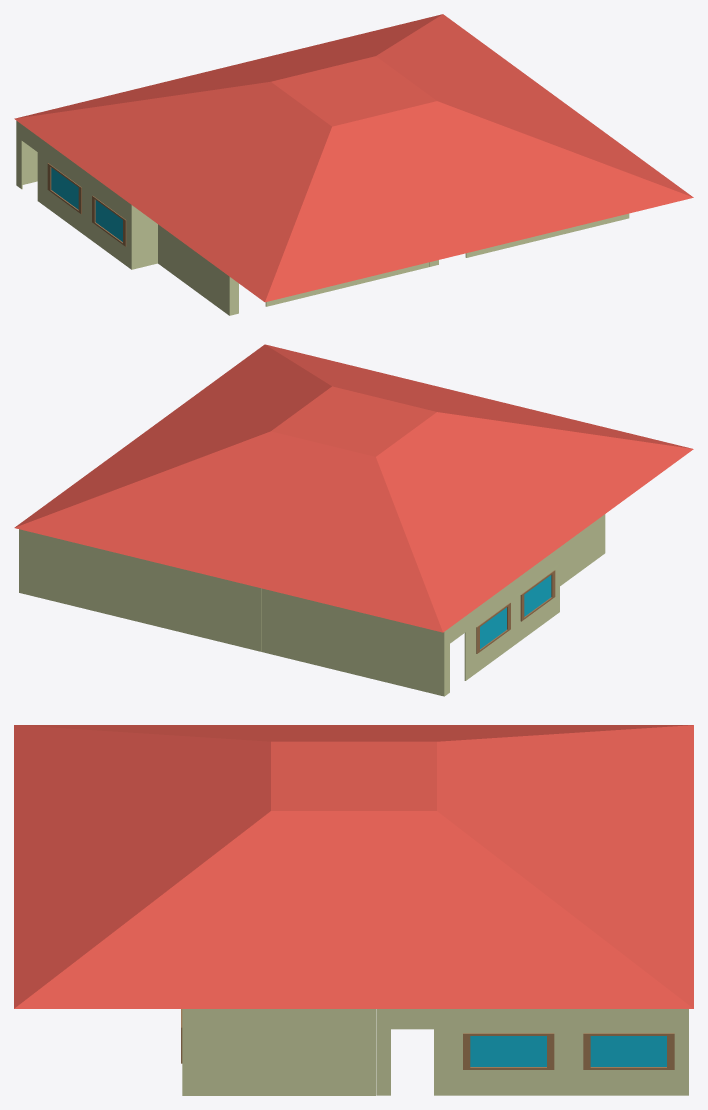
Rendered from Building.fbx.
3 renders of one model, top to bottom at view 1: azimuth 30°, elevation 25°; view 2: azimuth 150°, elevation 25°; view 3: azimuth 270°, elevation 25°, orthographic. The views are drawn at different scales.
Parts seen in each view (by area): view 1: Plane, Cube.003, Cube, Cube.001; view 2: Plane, Cube.003, Cube.002, Cube; view 3: Plane, Cube.002, Cube.001.
Boxes of the visible parts, x1=… form: Plane: x1=14, y1=14, x2=693, y2=302; Cube.003: x1=16, y1=121, x2=157, y2=269; Cube: x1=158, y1=224, x2=429, y2=315; Cube.001: x1=429, y1=213, x2=629, y2=266; Plane: x1=14, y1=344, x2=693, y2=632; Cube.003: x1=261, y1=547, x2=559, y2=696; Cube.002: x1=19, y1=529, x2=261, y2=651; Cube: x1=560, y1=514, x2=605, y2=585; Plane: x1=14, y1=725, x2=693, y2=1008; Cube.002: x1=376, y1=1009, x2=688, y2=1095; Cube.001: x1=181, y1=1009, x2=375, y2=1095.
Size of the model in its own units: 1380 by 406 by 1396.
